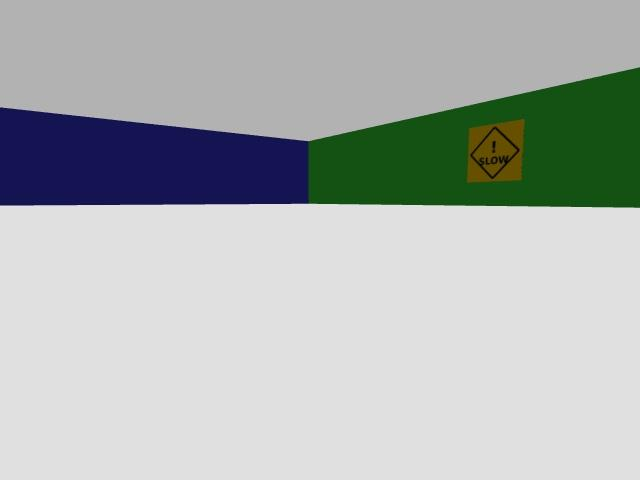slow: (468, 119, 523, 182)
